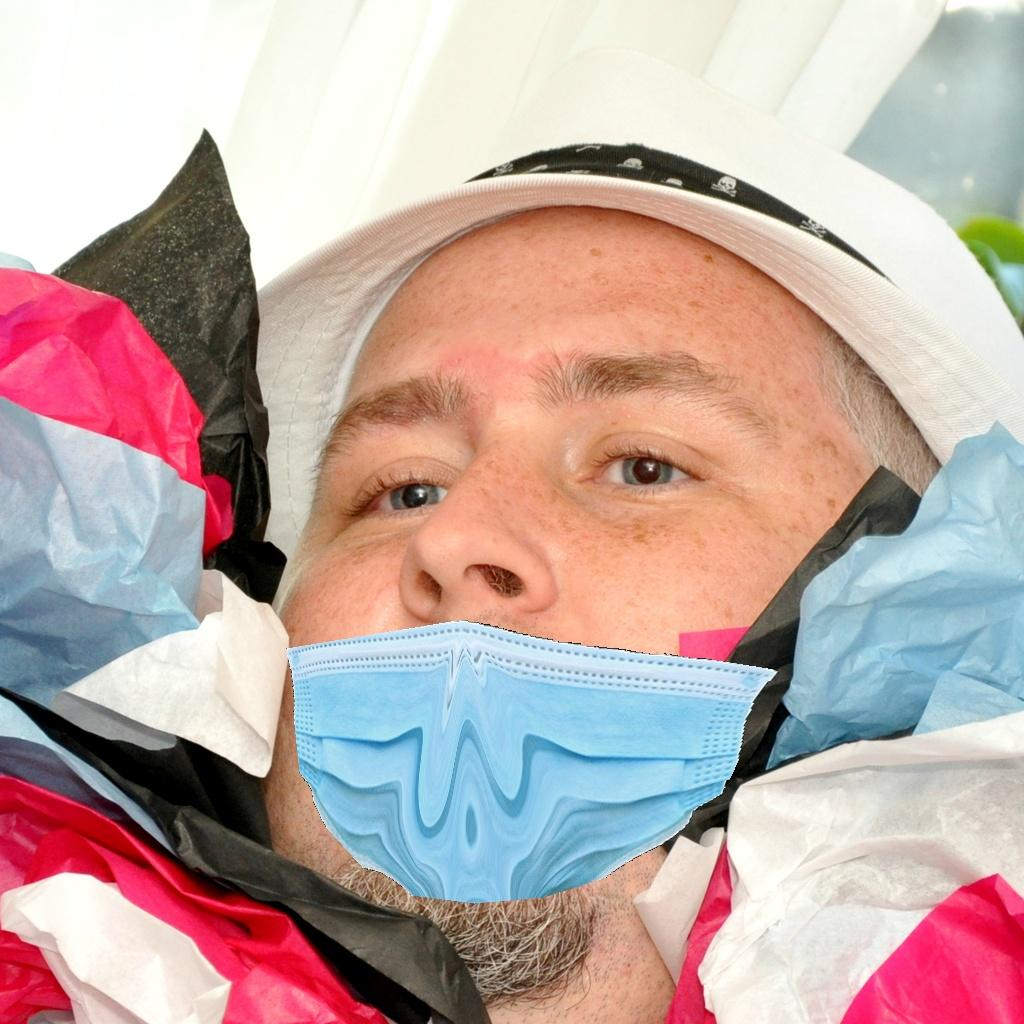Máscara Incorreta: (289, 248, 850, 931)
